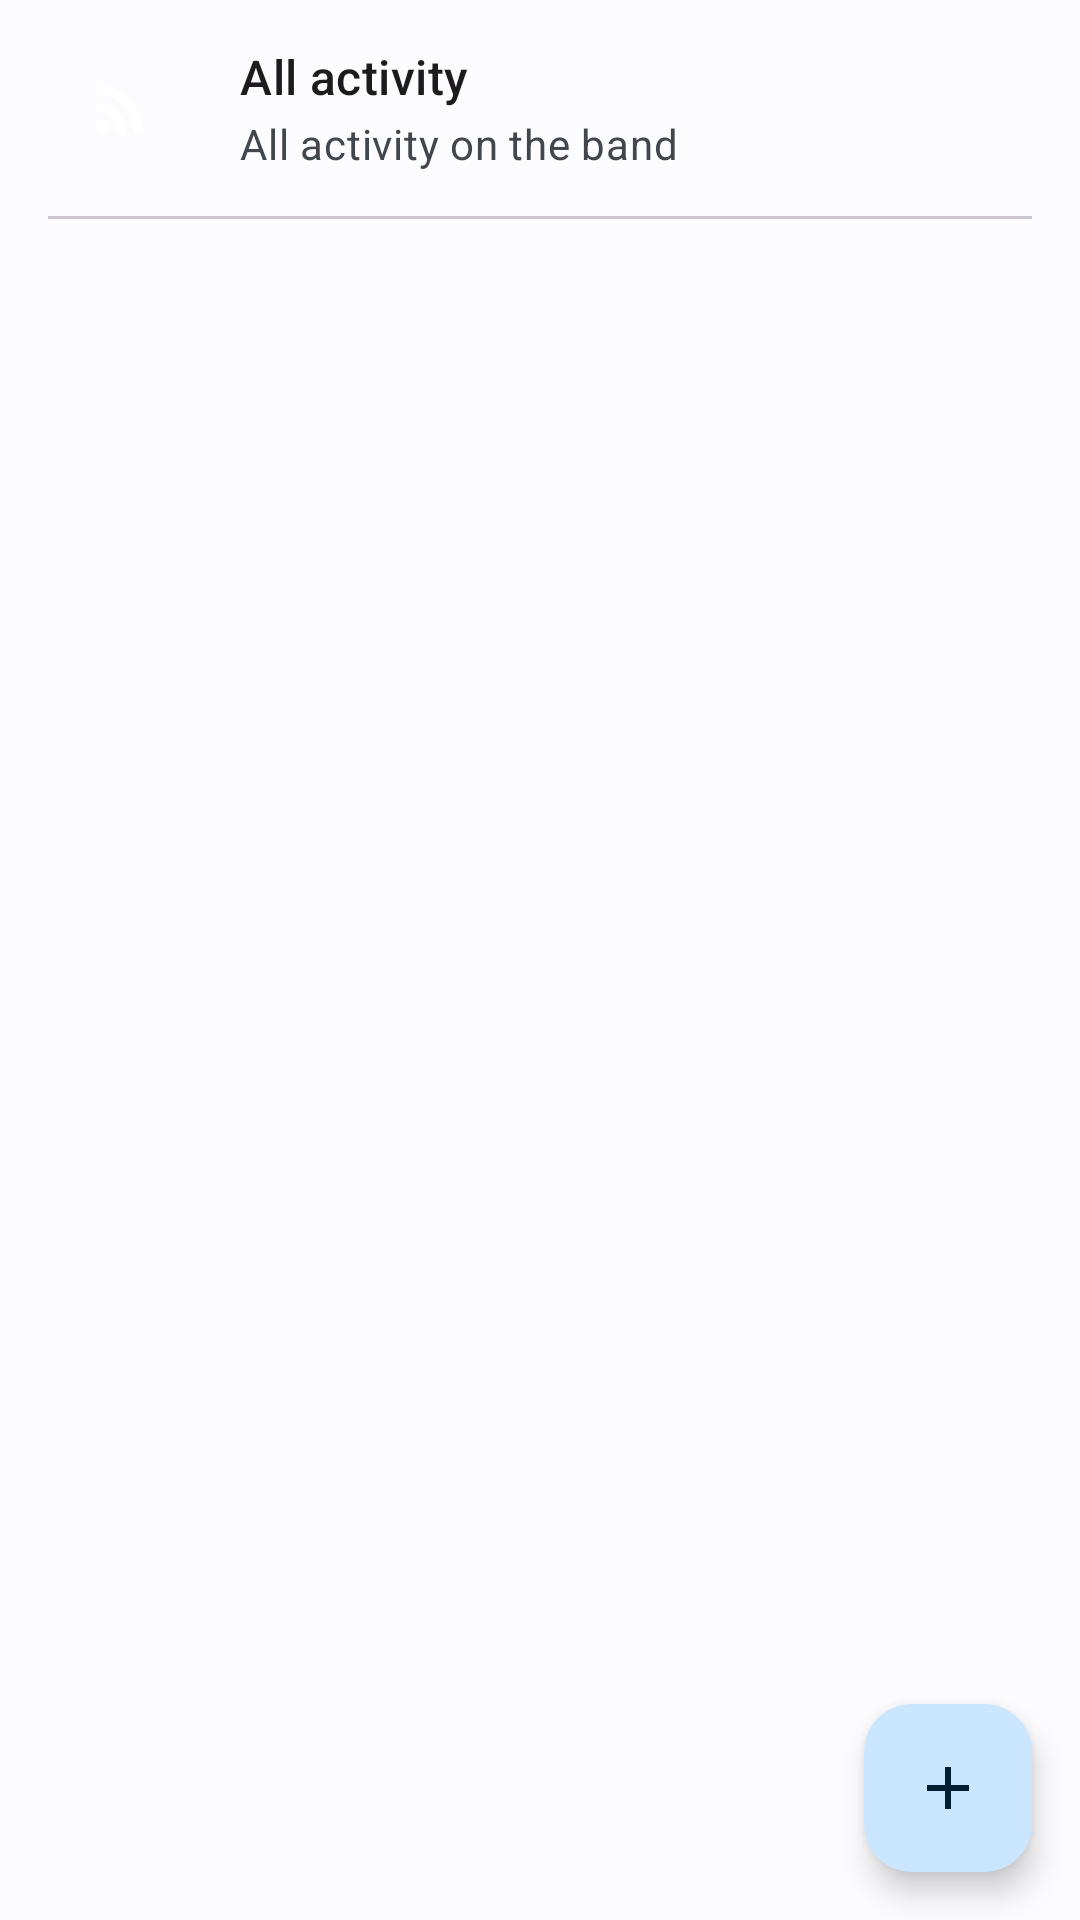

Where icons sit on this 1080px x 1920px app screen, as (x1, y1, x2, y2):
New Message: (864, 1704, 1032, 1872)
